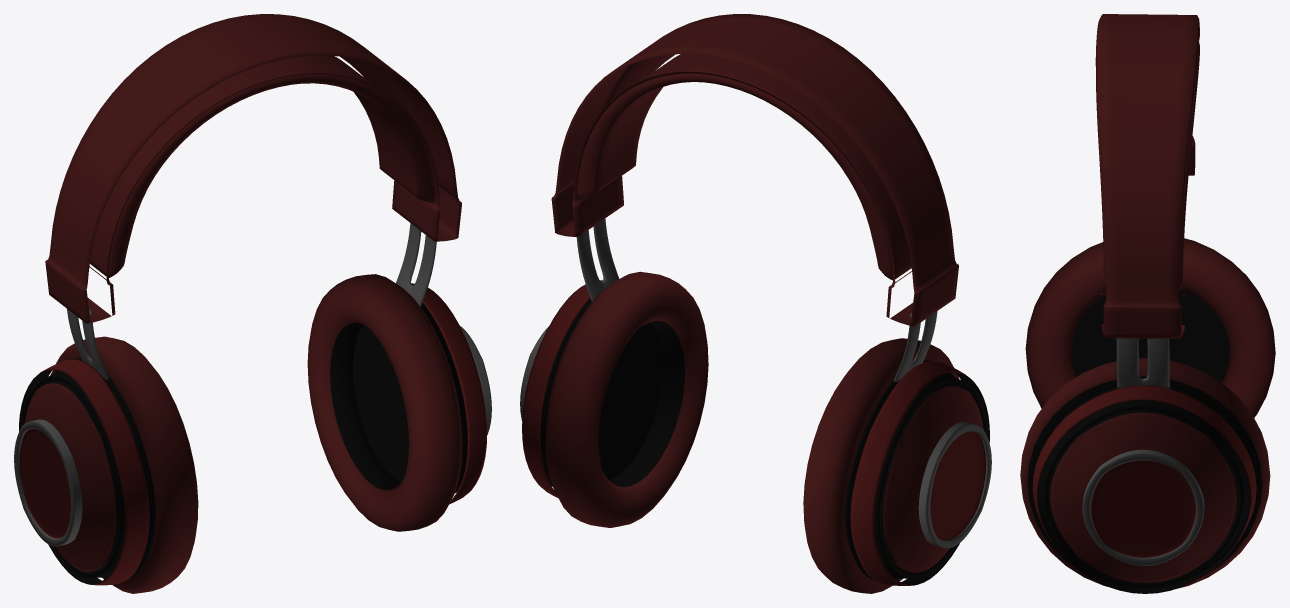
Rendered from HeadphonesTextured.fbx.
3 renders of one model, left to right at view 1: azimuth 30°, elevation 25°; view 2: azimuth 150°, elevation 25°; view 3: azimuth 270°, elevation 25°, orthographic. The views are drawn at different scales.
Parts seen in each view (by area): view 1: polySurface860, polySurface849, polySurface829, polySurface858, polySurface846, polySurface840, polySurface838, polySurface861, polySurface850, polySurface857, polySurface834, polySurface854 (+11 smaller); view 2: polySurface860, polySurface849, polySurface829, polySurface858, polySurface846, polySurface840, polySurface850, polySurface838, polySurface862, polySurface834, polySurface857, polySurface854 (+10 smaller); view 3: polySurface860, polySurface847, polySurface830, polySurface852, polySurface858, polySurface833, polySurface856, polySurface857, polySurface848, polySurface829, polySurface855, polySurface865 (+5 smaller).
Boxes of the visible parts, <box> form: polySurface860: <box>45,14,461,323</box>; polySurface849: <box>307,284,428,529</box>; polySurface829: <box>56,336,197,593</box>; polySurface858: <box>331,274,462,531</box>; polySurface846: <box>90,55,417,276</box>; polySurface840: <box>24,383,116,571</box>; polySurface838: <box>39,359,149,585</box>; polySurface861: <box>109,73,435,277</box>; polySurface850: <box>353,325,408,482</box>; polySurface857: <box>411,283,487,504</box>; polySurface834: <box>19,429,70,538</box>; polySurface854: <box>330,323,400,490</box>; polySurface860: <box>551,14,958,326</box>; polySurface849: <box>577,282,708,526</box>; polySurface829: <box>804,338,953,593</box>; polySurface858: <box>545,271,684,527</box>; polySurface846: <box>594,54,911,279</box>; polySurface840: <box>882,385,983,572</box>; polySurface850: <box>598,322,662,479</box>; polySurface838: <box>850,361,971,585</box>; polySurface862: <box>576,71,892,280</box>; polySurface834: <box>930,431,985,540</box>; polySurface857: <box>522,280,602,498</box>; polySurface854: <box>609,320,684,487</box>; polySurface860: <box>1096,14,1199,338</box>; polySurface847: <box>1050,412,1236,582</box>; polySurface830: <box>1030,254,1270,415</box>; polySurface852: <box>1090,460,1196,557</box>; polySurface858: <box>1020,358,1270,588</box>; polySurface833: <box>1071,289,1229,382</box>; polySurface856: <box>1037,387,1254,587</box>; polySurface857: <box>1032,385,1256,586</box>; polySurface848: <box>1027,376,1262,588</box>; polySurface829: <box>1025,238,1275,417</box>; polySurface855: <box>1082,449,1204,565</box>; polySurface865: <box>1116,338,1169,388</box>.
Size of the model in its own units: 4 by 4.72 by 2.21.
